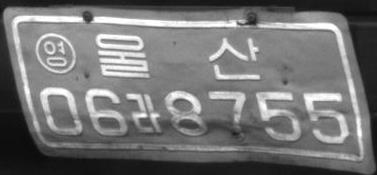0: (39, 85, 83, 136)
5: (302, 90, 350, 144), (255, 89, 302, 141)
6: (84, 86, 128, 138)
7: (207, 89, 246, 135)
8: (164, 89, 207, 137)
라: (128, 93, 163, 133)
영: (34, 32, 77, 75)
울산_D: (94, 32, 261, 81)
